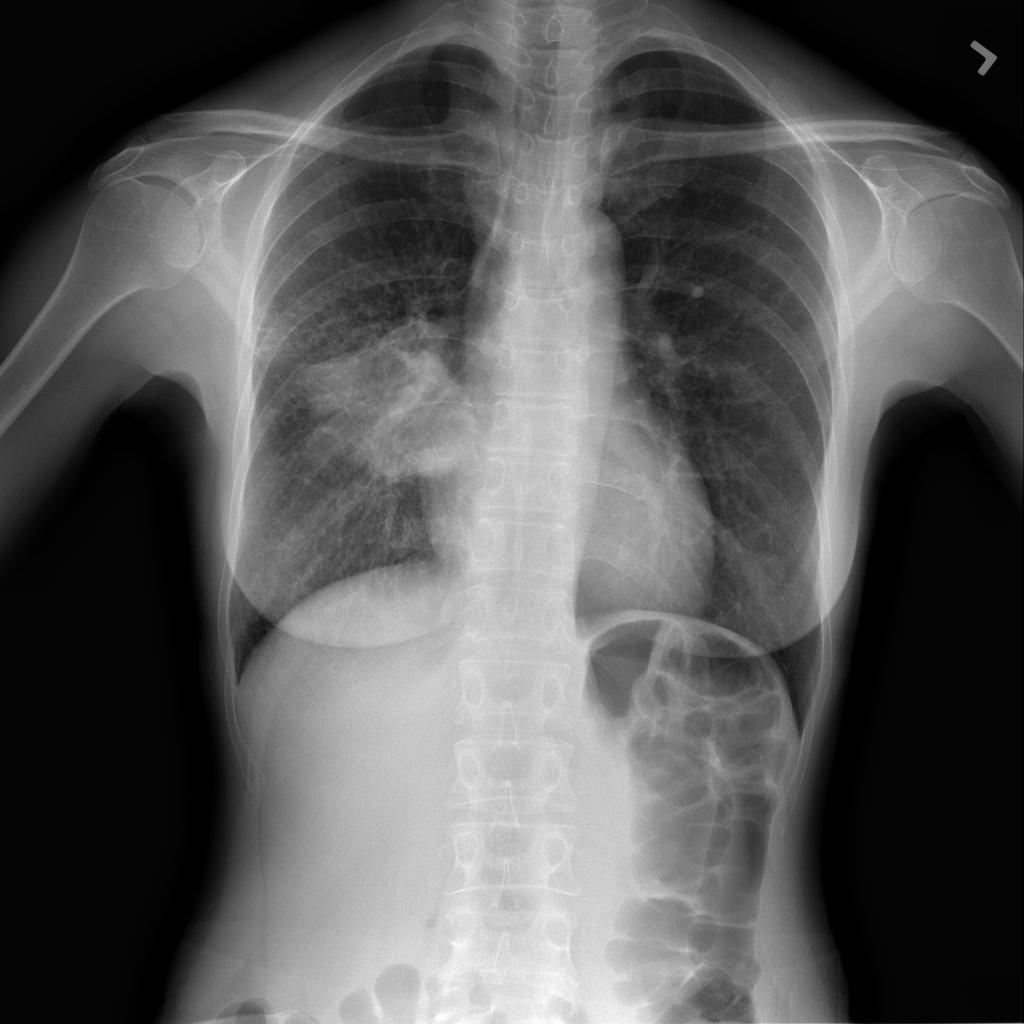nodule: (304, 305, 488, 496), (730, 535, 802, 606)
